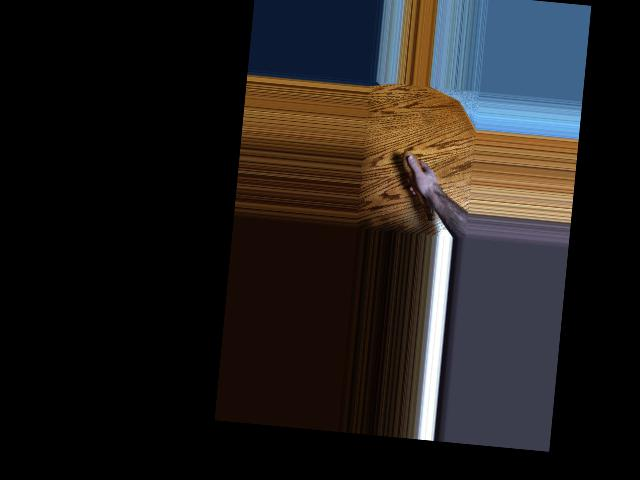sweet_potato: (397, 153, 442, 223)
